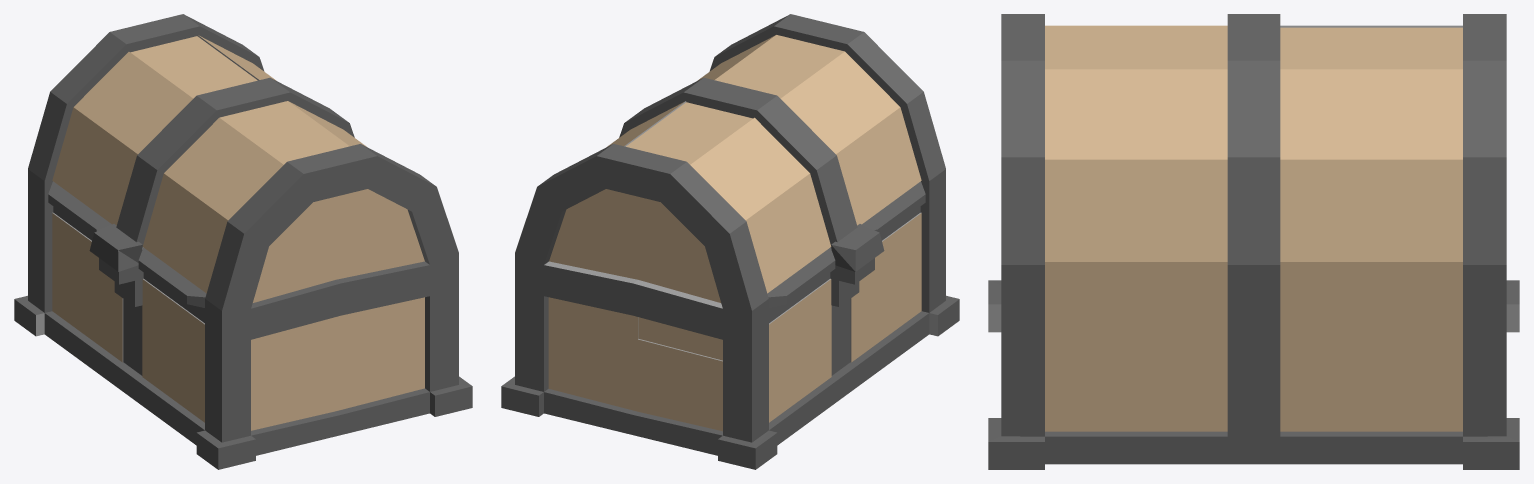
The model's file is Chest.fbx.
The picture shows the model from 3 angles, left to right: view 1: azimuth 30°, elevation 25°; view 2: azimuth 150°, elevation 25°; view 3: azimuth 270°, elevation 25°; orthographic projection. The views are drawn at different scales.
Parts seen in each view (by area): view 1: pCylinder1; view 2: pCylinder1; view 3: pCylinder1.
Boxes of the visible parts, <box> form: pCylinder1: <box>14,14,472,469</box>; pCylinder1: <box>501,14,959,469</box>; pCylinder1: <box>988,14,1519,469</box>.
Size of the model in its own units: 8.4 by 8.17 by 11.14.
